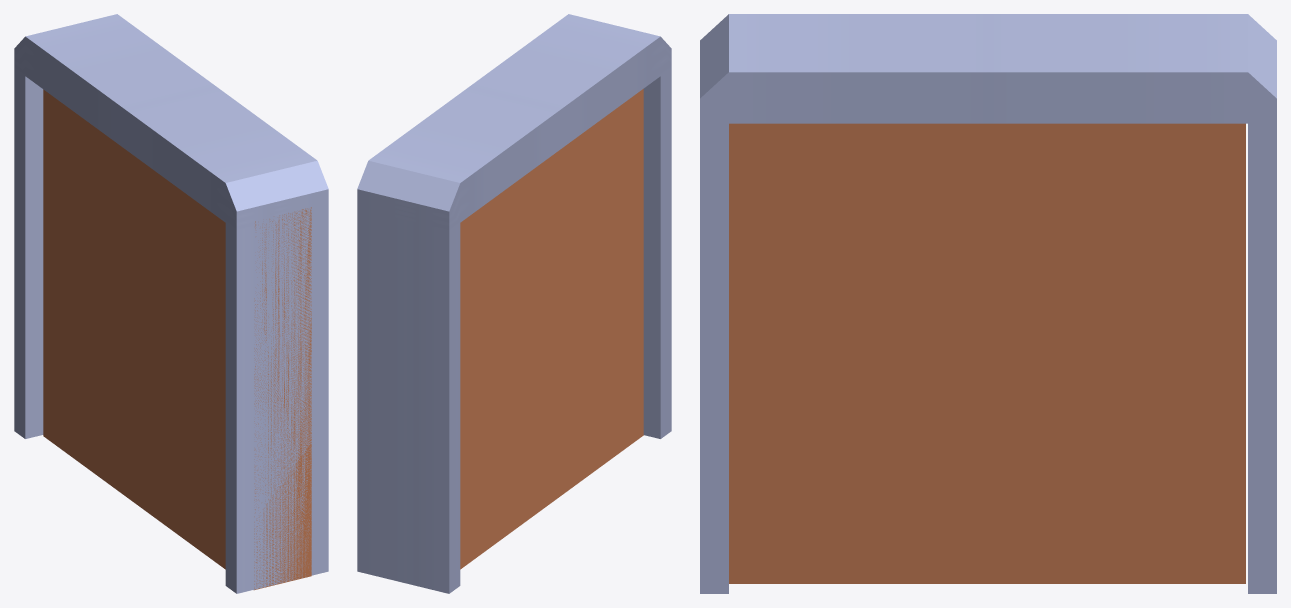
File: Door.glb
The picture shows the model from 3 angles, left to right: view 1: azimuth 30°, elevation 25°; view 2: azimuth 150°, elevation 25°; view 3: azimuth 270°, elevation 25°; orthographic projection. The views are drawn at different scales.
Visible parts, largest first — view 1: DoorFrame, WoodenDoor; view 2: DoorFrame, WoodenDoor; view 3: WoodenDoor, DoorFrame.
Part boxes in pixels (<box>): DoorFrame: <box>14,14,328,593</box>; WoodenDoor: <box>43,89,311,590</box>; DoorFrame: <box>357,14,671,593</box>; WoodenDoor: <box>460,89,643,569</box>; WoodenDoor: <box>729,123,1245,583</box>; DoorFrame: <box>700,14,1276,593</box>.
Size of the model in its own units: 0.2387 by 0.9997 by 1.
1 material, 1 textured.
